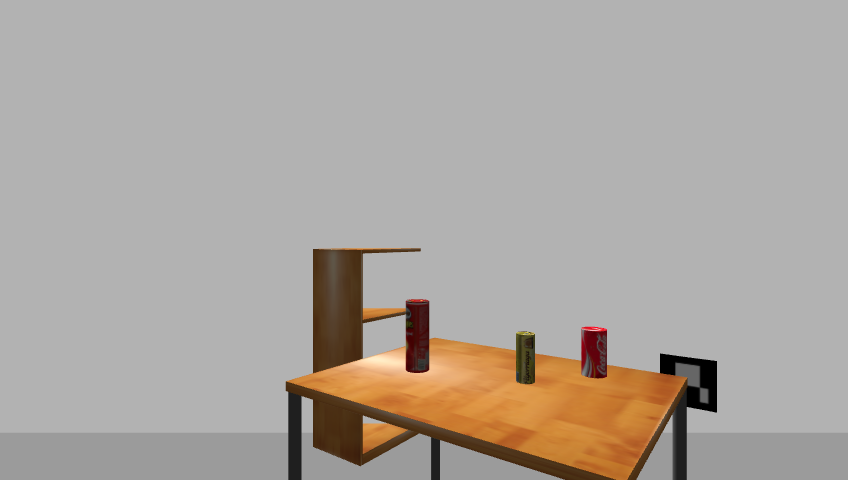aruco marker: (655, 351, 723, 415)
biscuits pack: (514, 331, 536, 385)
bookshelf: (307, 244, 425, 470)
coke can: (580, 326, 609, 379)
dinner table: (279, 341, 697, 480)
pringles can: (403, 299, 431, 375)
